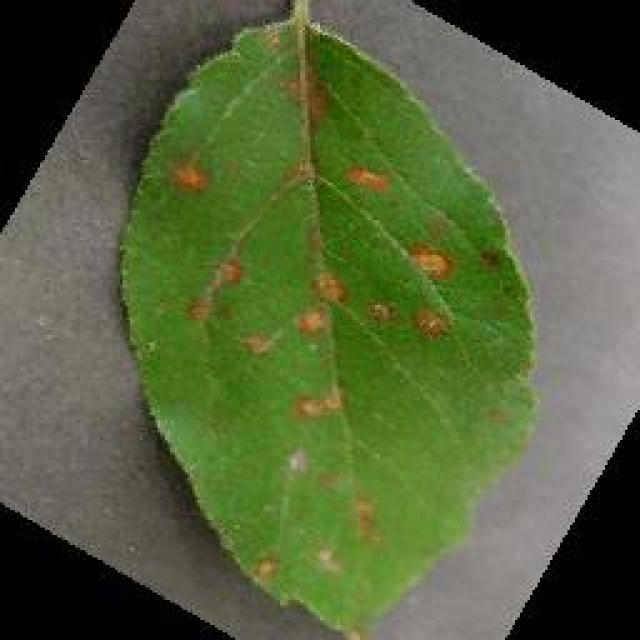apple cedar apple rust: (112, 5, 542, 637)
